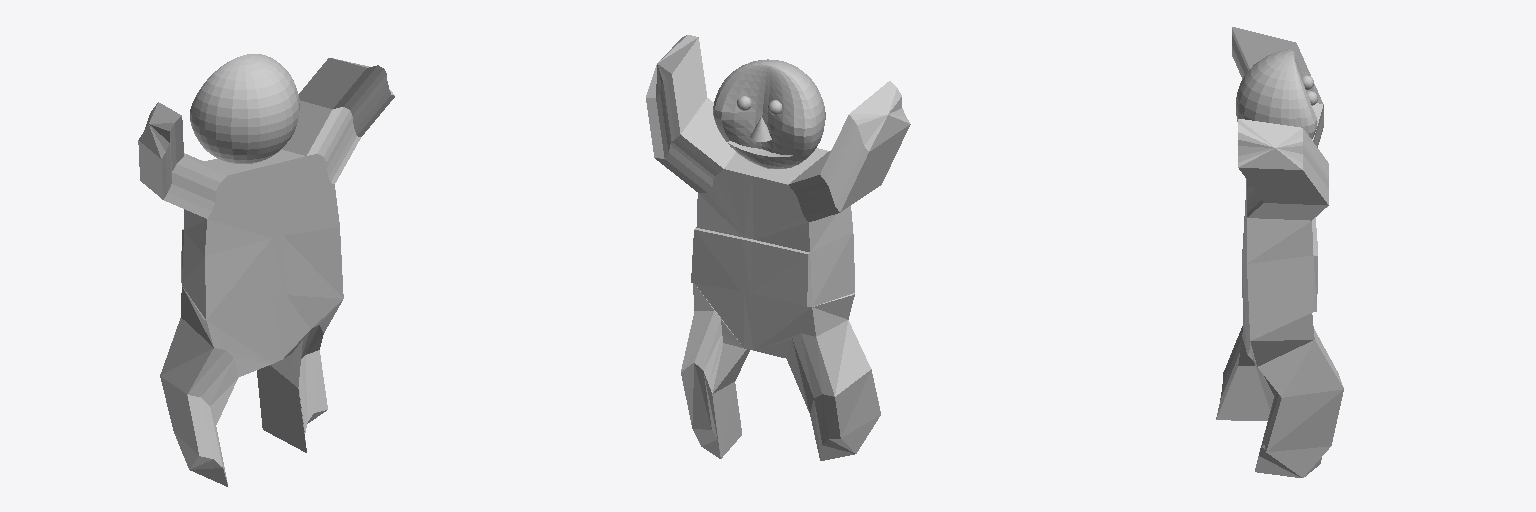
File: man_000005.obj
3 renders of one model, left to right at view 1: azimuth 30°, elevation 25°; view 2: azimuth 150°, elevation 25°; view 3: azimuth 270°, elevation 25°, orthographic.
Parts seen in each view (by area): view 1: Cube; view 2: Cube; view 3: Cube.
Boxes of the visible parts, <box> form: Cube: <box>138,54,394,486</box>; Cube: <box>646,35,910,460</box>; Cube: <box>1216,27,1343,477</box>.
Size of the model in its own units: 79.08 by 126 by 37.04.